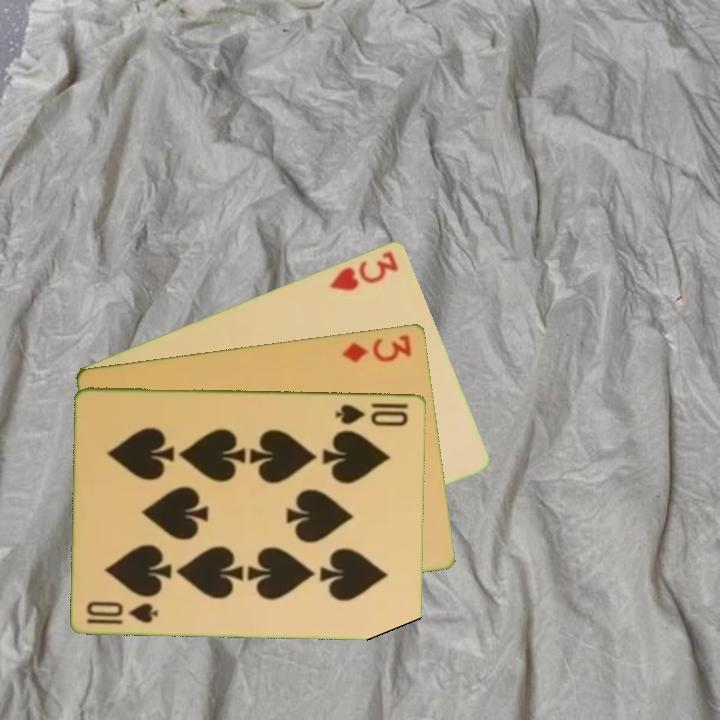10s: (83, 597, 162, 627), (332, 400, 412, 429)
3d: (339, 330, 415, 365)
3h: (325, 247, 402, 294)
